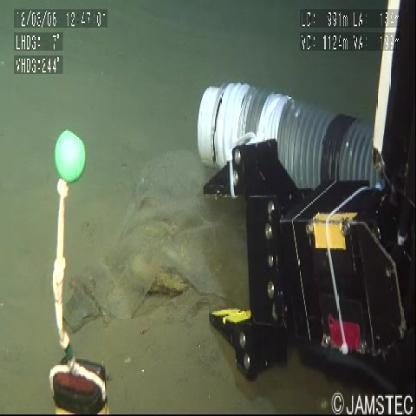Rác: (63, 144, 247, 338)
